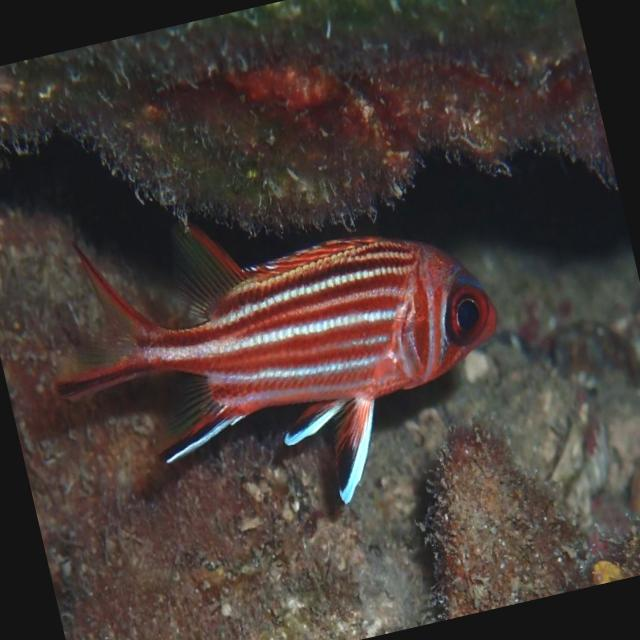Asker Baligi: (21, 148, 533, 562)
